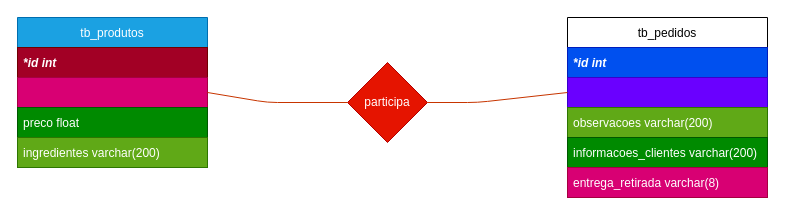
Image size: 785x215. Some labels were removed from this diagram. Here are the shapes that lost their labels. From the top down, the centre of each, then its label:
the point at 112,92: produto varchar(50)
the point at 667,92: total varchar(50)
